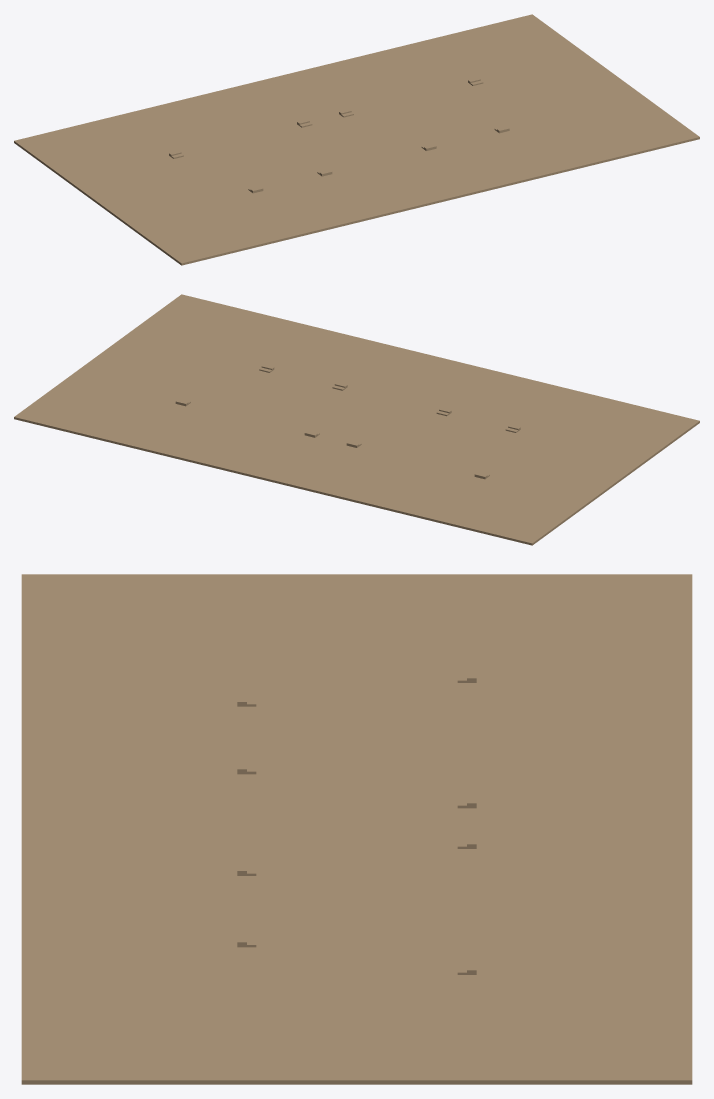
File: z13-frontage-support-and-steps-C.glb
3 views of the same model, one above another, from view 1: azimuth 30°, elevation 25°; view 2: azimuth 150°, elevation 25°; view 3: azimuth 270°, elevation 25° (orthographic). The views are drawn at different scales.
Visible parts, largest first — view 1: Z13_compact_reversible_support_C; view 2: Z13_compact_reversible_support_C; view 3: Z13_compact_reversible_support_C.
Part boxes in pixels (x1,y1,x2,y2): Z13_compact_reversible_support_C: [14, 14, 699, 265]; Z13_compact_reversible_support_C: [14, 294, 699, 545]; Z13_compact_reversible_support_C: [21, 574, 692, 1084].
Size of the model in its own units: 50 by 0.42 by 28.
